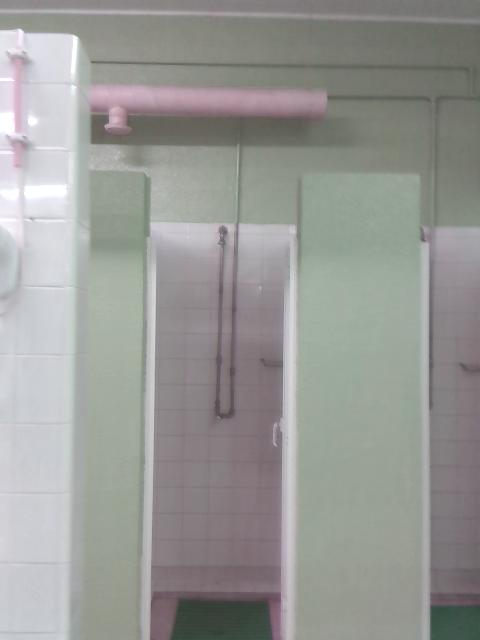open_door: (140, 172, 300, 639)
